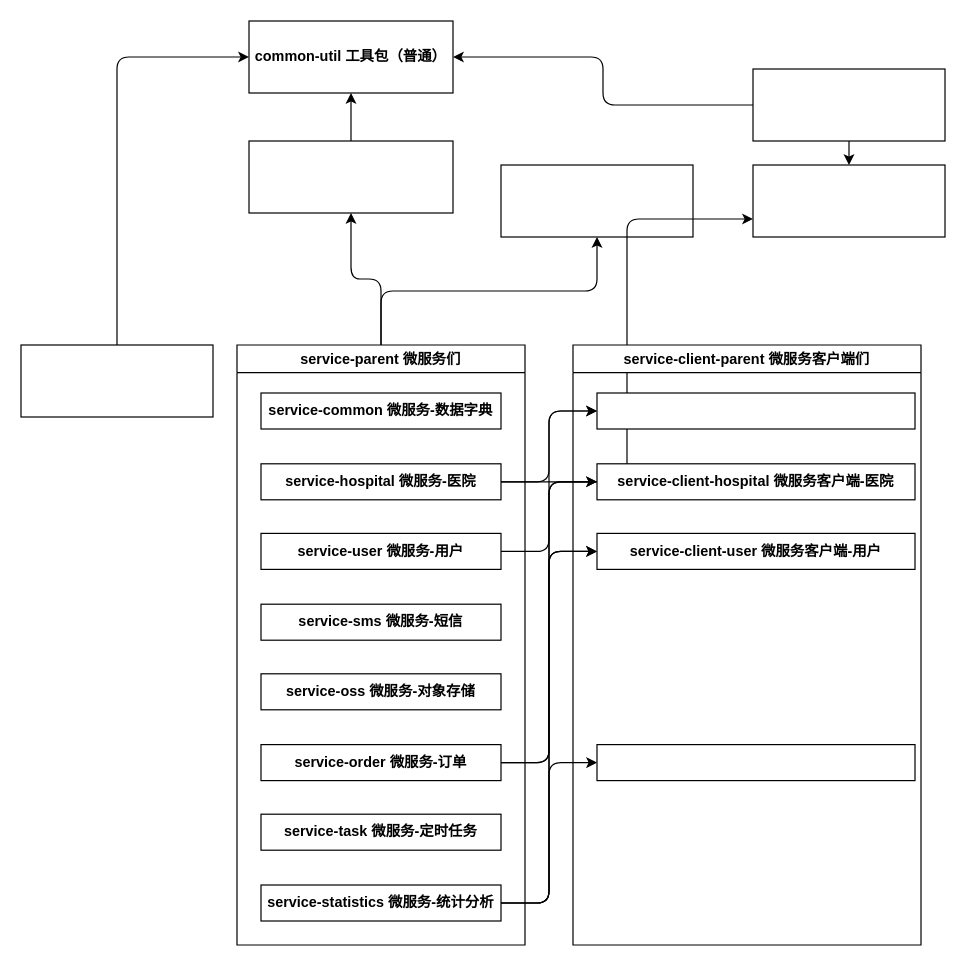
Some shapes in this 970 by 966 pixel diagram are drawn without their labels. Each missing label, with the centre of its shape:
model 数据模型: (x=596, y=200)
model4sdk 数据模型（SDK）: (x=848, y=200)
SDK: (x=848, y=104)
service-client-common 微服务客户端-数据字典: (x=755, y=410)
service-client-order 微服务客户端-订单: (x=755, y=762)
service-gateway 微服务网关: (x=116, y=380)
service-util 工具包（服务）: (x=350, y=176)
